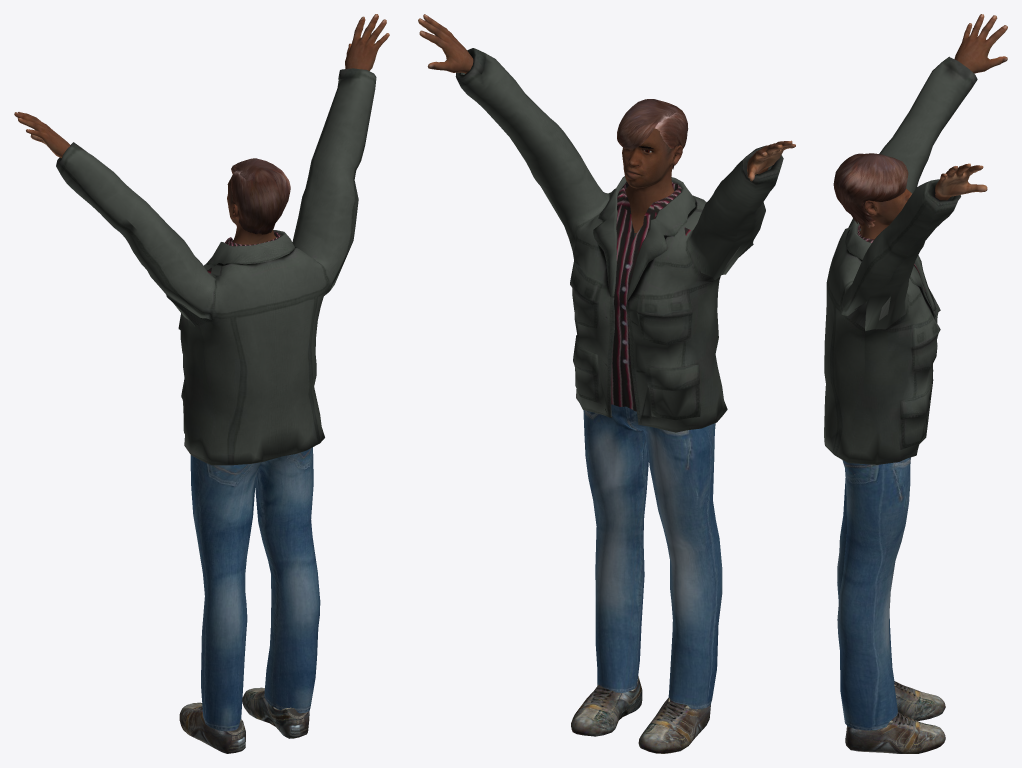
File: cheering_6.gltf
The picture shows the model from 3 angles, left to right: view 1: azimuth 30°, elevation 25°; view 2: azimuth 150°, elevation 25°; view 3: azimuth 270°, elevation 25°; orthographic projection. The views are drawn at different scales.
Visible parts, largest first — view 1: cheering; view 2: cheering; view 3: cheering.
Boxes of the visible parts, x1,y1,x2,y2 form: cheering: [14, 14, 389, 753]; cheering: [418, 14, 795, 753]; cheering: [824, 14, 1007, 753].
Size of the model in its own units: 1.39 by 2.42 by 0.6203.
Materials: 6 (6 with a texture image).
